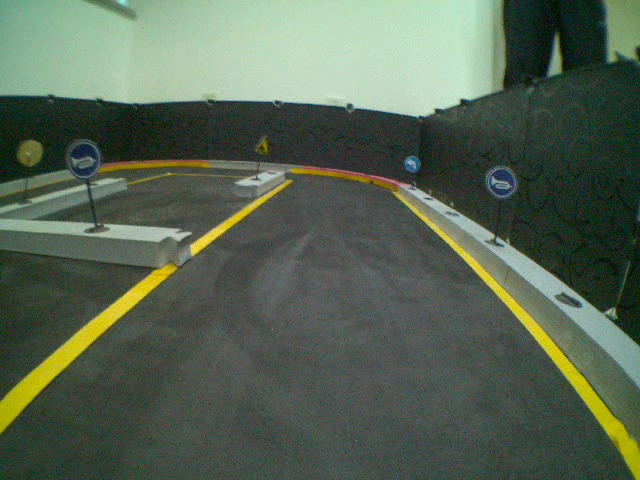fast: (255, 134, 272, 156)
horn: (65, 138, 101, 179), (486, 165, 519, 200)
turn: (404, 155, 419, 173)
